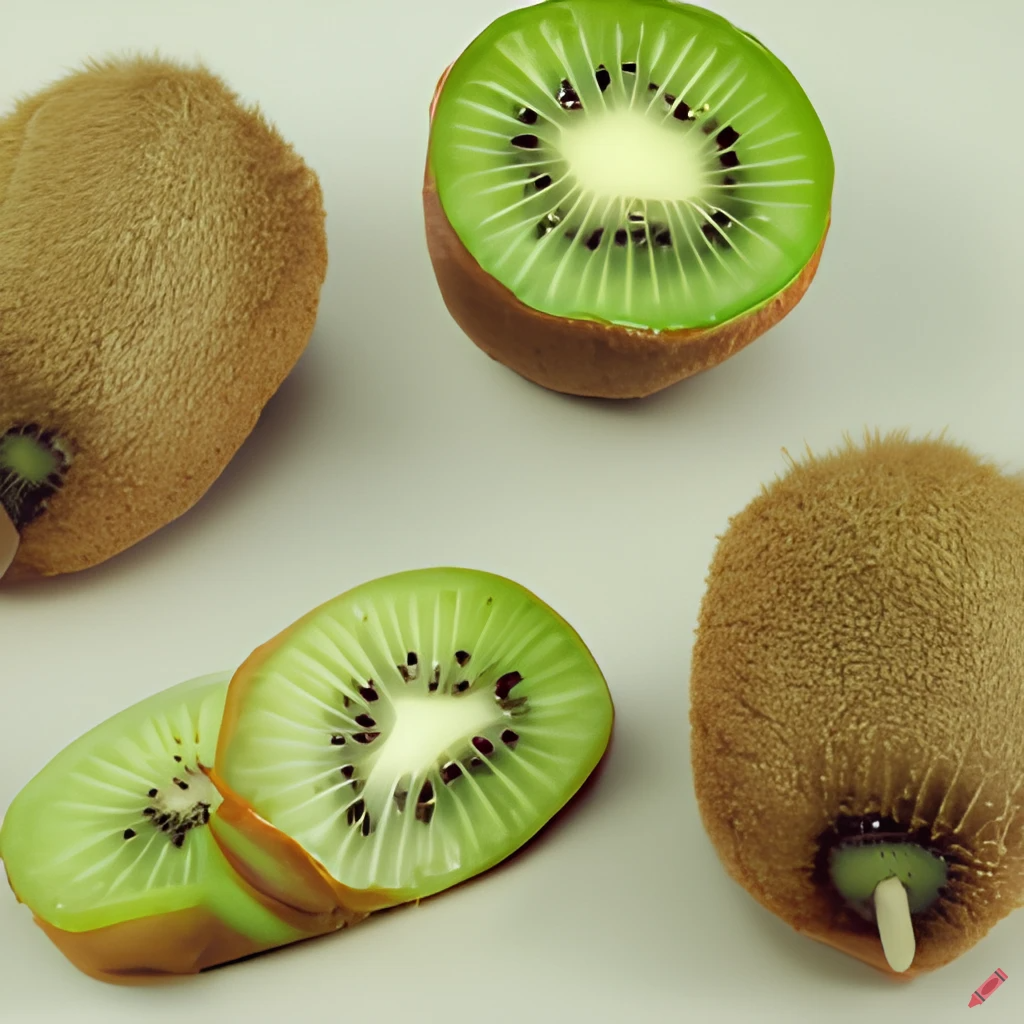Kiwi: (329, 0, 889, 407)
